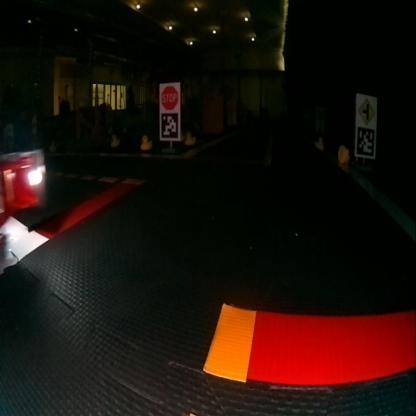Duckie: (140, 134, 151, 150), (338, 146, 347, 162), (313, 136, 324, 149), (184, 130, 194, 143), (110, 134, 117, 146)
Duckiebot: (1, 146, 48, 223)
Intersection sign: (357, 98, 374, 125)
QR code: (160, 111, 177, 139), (356, 129, 374, 155)
Stop sign: (160, 85, 178, 108)
